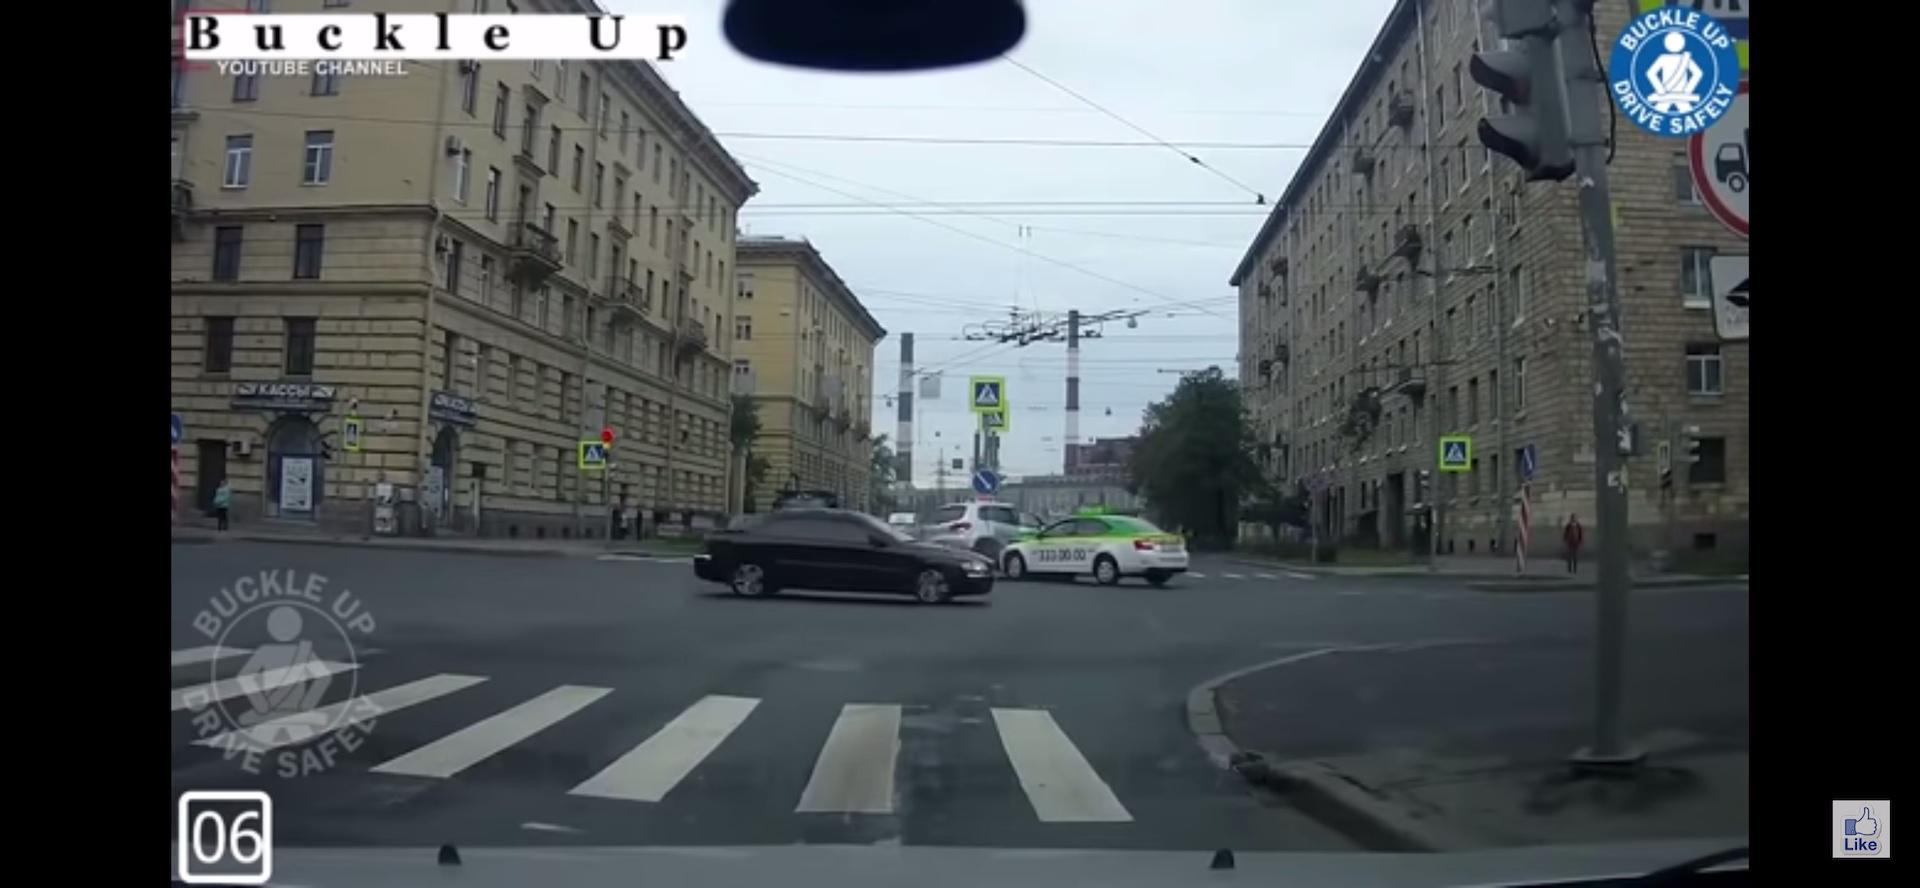car-accident: (915, 492, 1198, 585)
